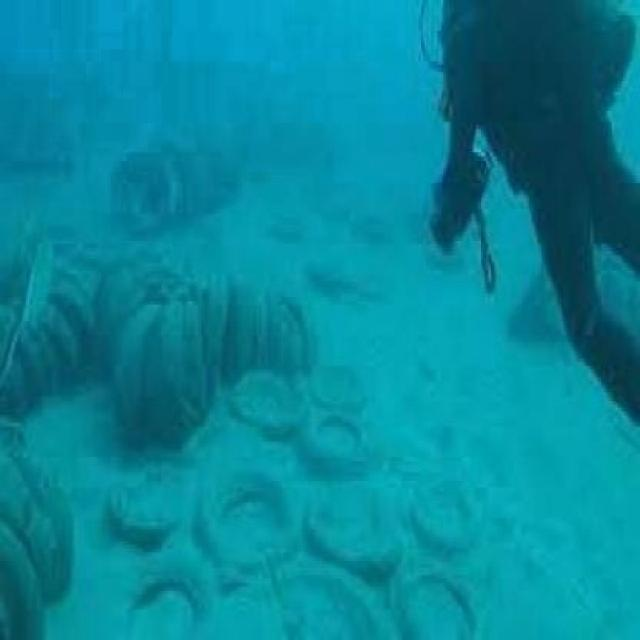tire: (104, 123, 207, 260), (158, 274, 284, 377), (102, 450, 206, 552), (114, 547, 228, 640), (224, 453, 307, 572), (303, 400, 382, 488)
